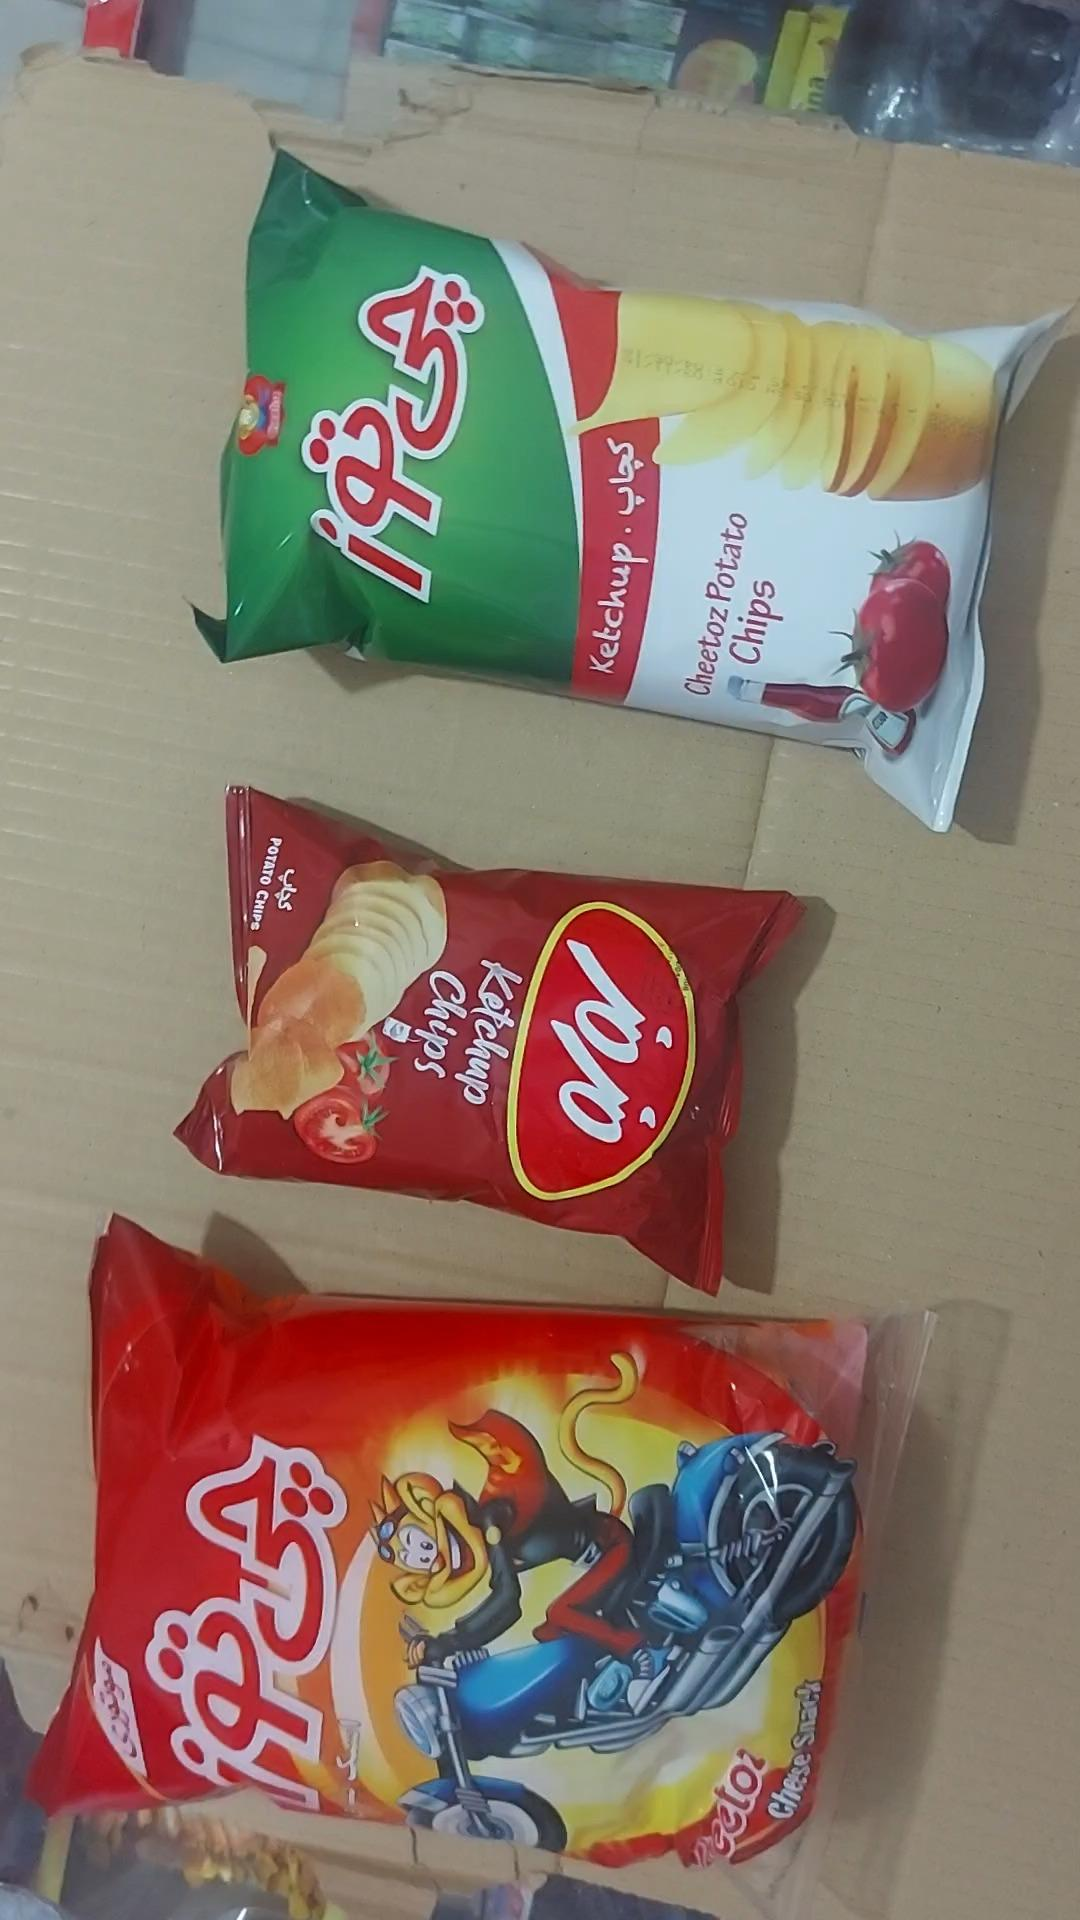Cheetoz ketchup chips: (214, 149, 1071, 835)
Cheetoz snack 90g: (26, 1218, 932, 1919)
Maz Maz ketchup chips: (174, 787, 804, 1298)
